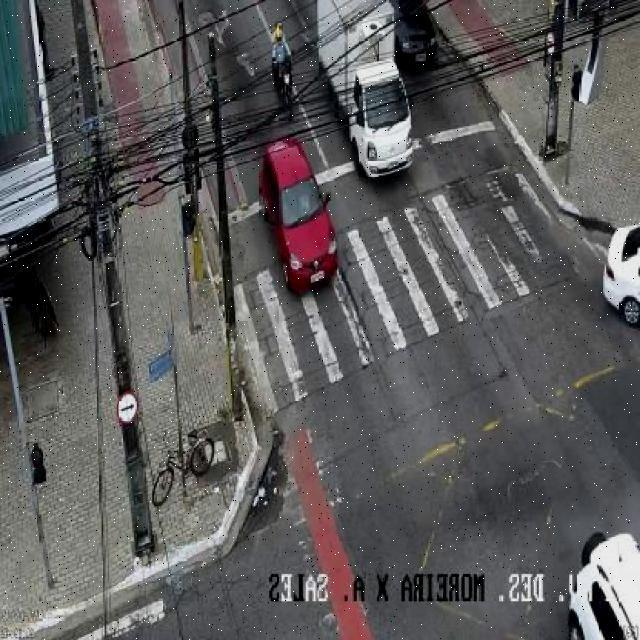Car: (258, 137, 340, 296), (565, 531, 640, 640), (602, 221, 640, 326), (390, 0, 441, 69)
Cycle: (150, 430, 215, 508), (268, 56, 297, 111)
Truck: (312, 0, 418, 181)
